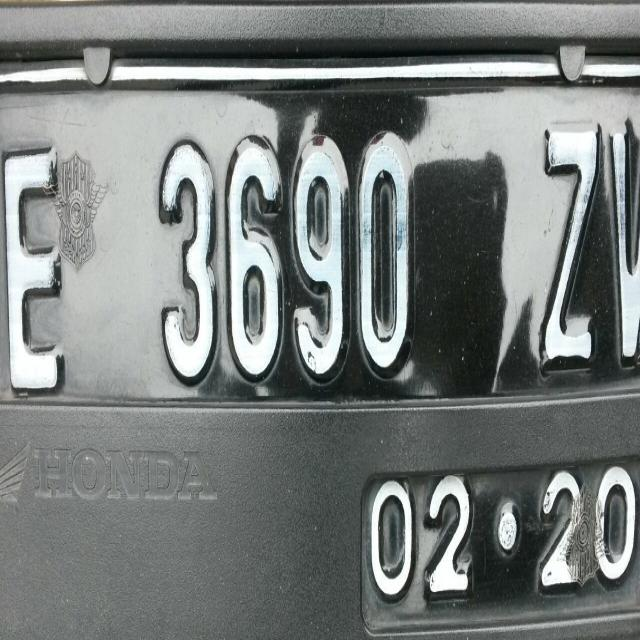plate: (1, 38, 639, 630)
